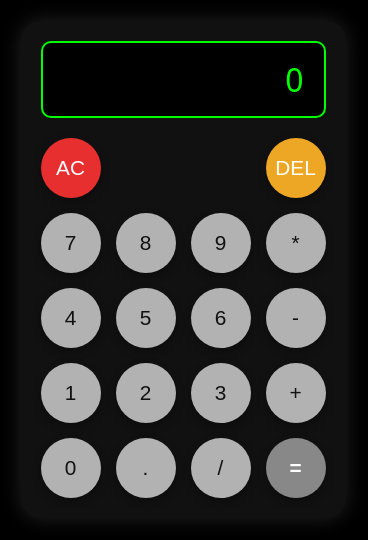
Test: buttons are rendered and clickable
expect the button "AC" is shown: met, box [40,138,100,198]
expect the button "DEL" is shown: met, box [266,138,326,198]
Perform calculation
Step 1. Click the button "1" → (70,392), box [40,362,100,422]
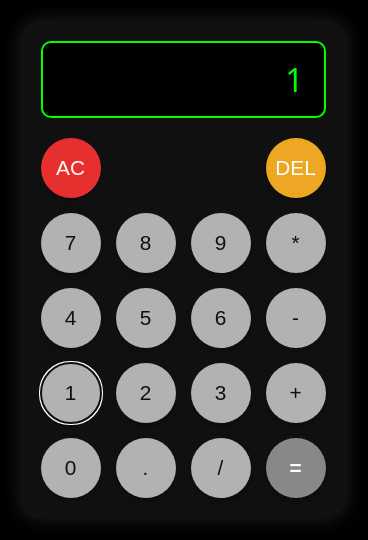
Step 2. Click the button "+" → (296,392), box [266,362,326,422]
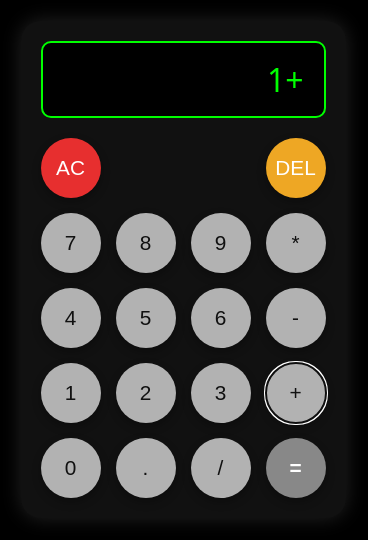
Step 3. Click the button "1" → (70,392), box [40,362,100,422]
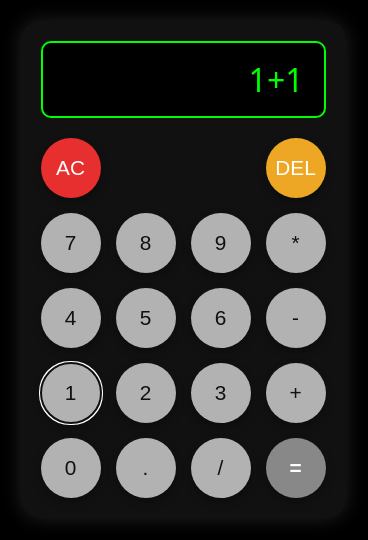
Step 4. Click the button "=" → (296,468), box [266,438,326,498]
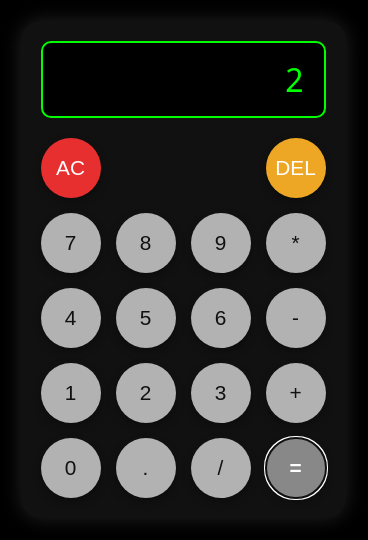
expect the text with test id "display" reads "2": met, box [285,58,304,100]
